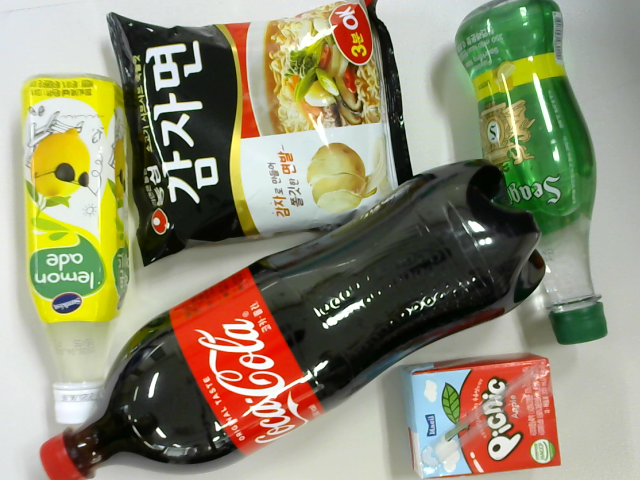Coca_Cola_1.5L: (39, 162, 548, 480)
Picnic_Apple: (405, 356, 561, 480)
Potato: (107, 14, 419, 264)
Seagram_Lemon_Carbonated_Water: (451, 1, 609, 346)
Sunkist_Lemonaid_Pet: (19, 74, 131, 426)
